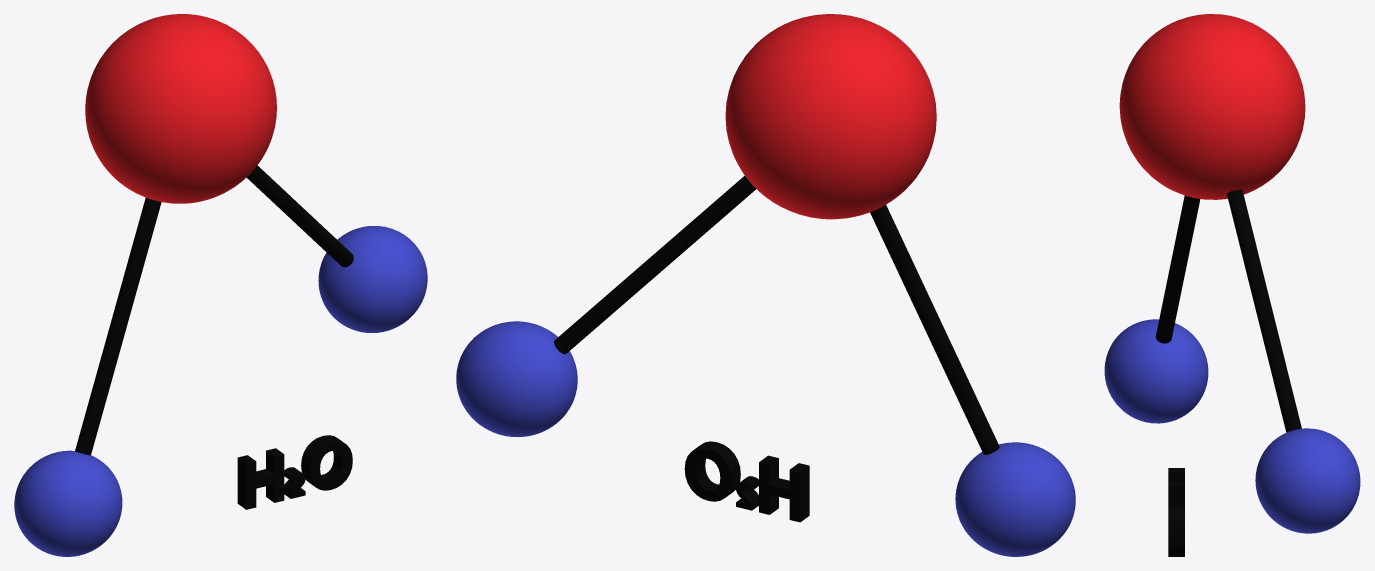
3 views of the same model, side by side, from view 1: azimuth 30°, elevation 25°; view 2: azimuth 150°, elevation 25°; view 3: azimuth 270°, elevation 25° (orthographic). The views are drawn at different scales.
Parts seen in each view (by area): view 1: root (×5), node_id66 (×3); view 2: root (×5), node_id66 (×2); view 3: root (×5), node_id66 (×2).
Boxes of the visible parts, x1,y1,x2,y2 form: root (×5): (14, 14, 427, 556); node_id66 (×3): (237, 435, 352, 509); root (×5): (456, 14, 1075, 556); node_id66 (×2): (684, 441, 809, 522); root (×5): (1104, 14, 1360, 533); node_id66 (×2): (1168, 468, 1184, 556).
Size of the model in its own units: 0.4848 by 0.4662 by 0.2298.
